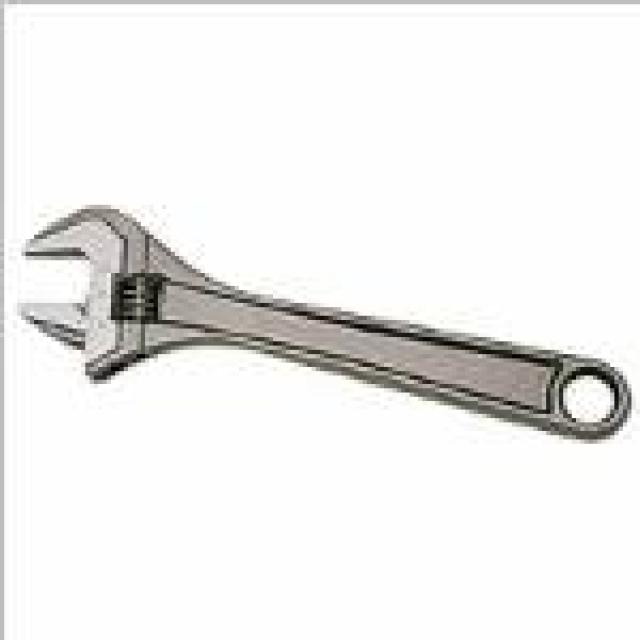wrench: (10, 184, 640, 467)
